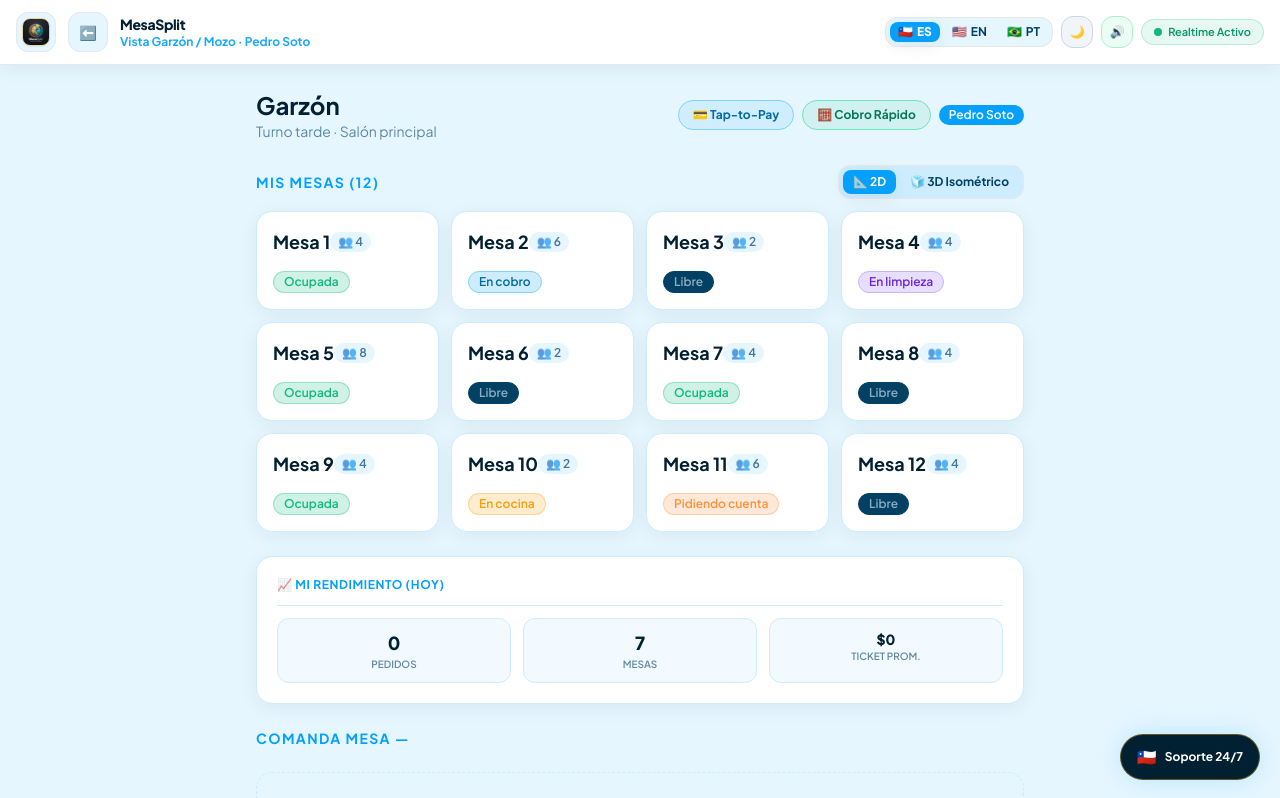
Test case: waiter-interactive-tables: Modal de Consumo (consumption-modal + no-order-no-modal) › no-order-no-modal sc.1: mesa ocupada SIN comanda no abre modal y el grid sigue interactivo
Expected: the heading "Mis mesas (12)" is shown, x1=256 y1=172 x2=379 y2=192
Click en la Mesa 7 (t7: occupied pero con order nulo).
Click the text "Mesa 7" at (693,353), box x1=663 y1=339 x2=723 y2=367
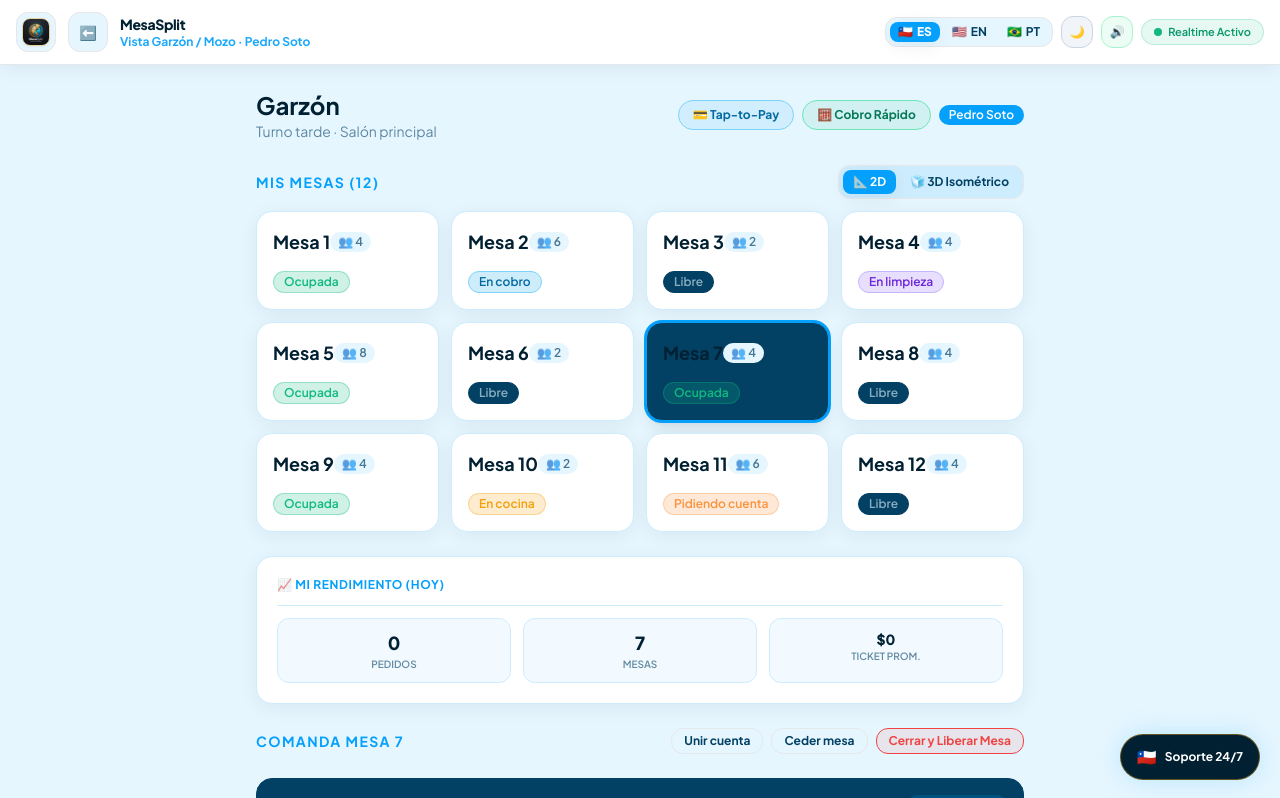
El grid sigue interactivo: click en la Mesa 1 sí abre el modal.
Click the text "Mesa 1" at (302,242), box x1=273 y1=228 x2=330 y2=256
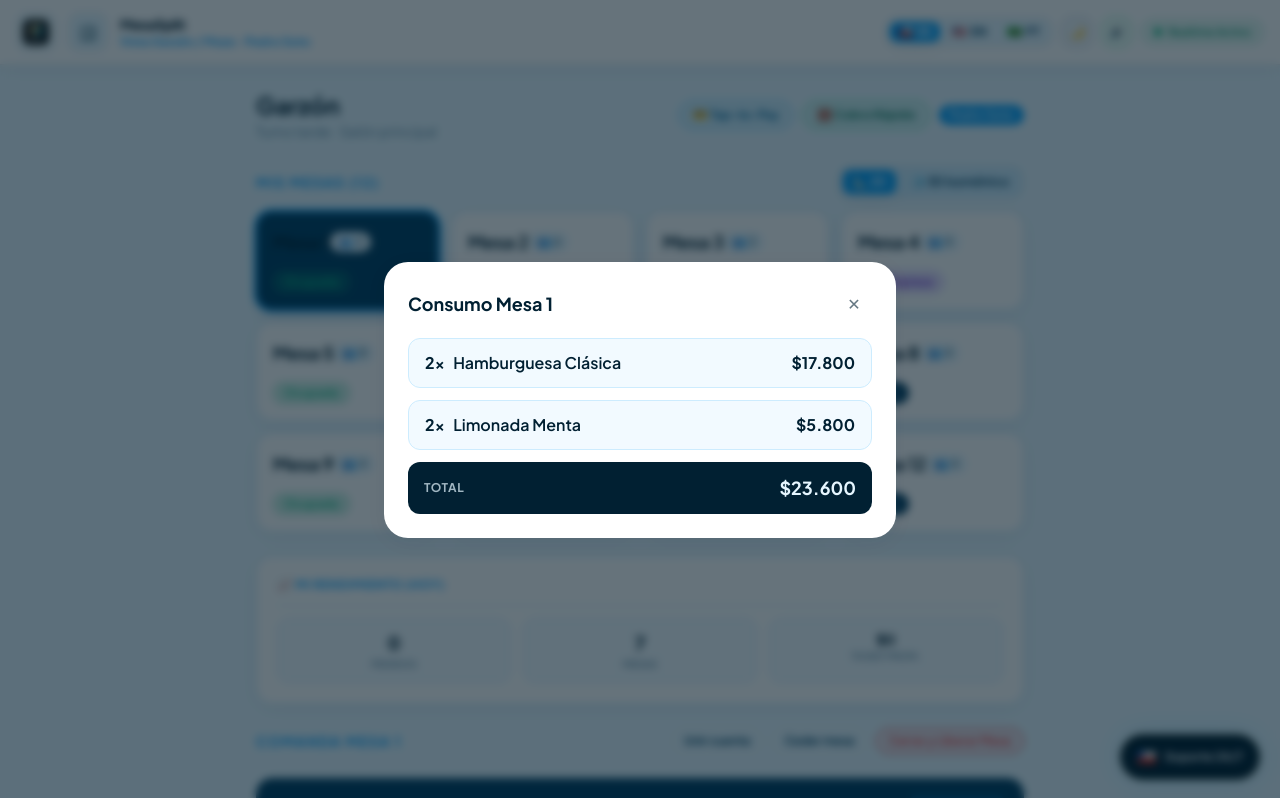
Now the dialog is shown, box x1=384 y1=262 x2=896 y2=538
